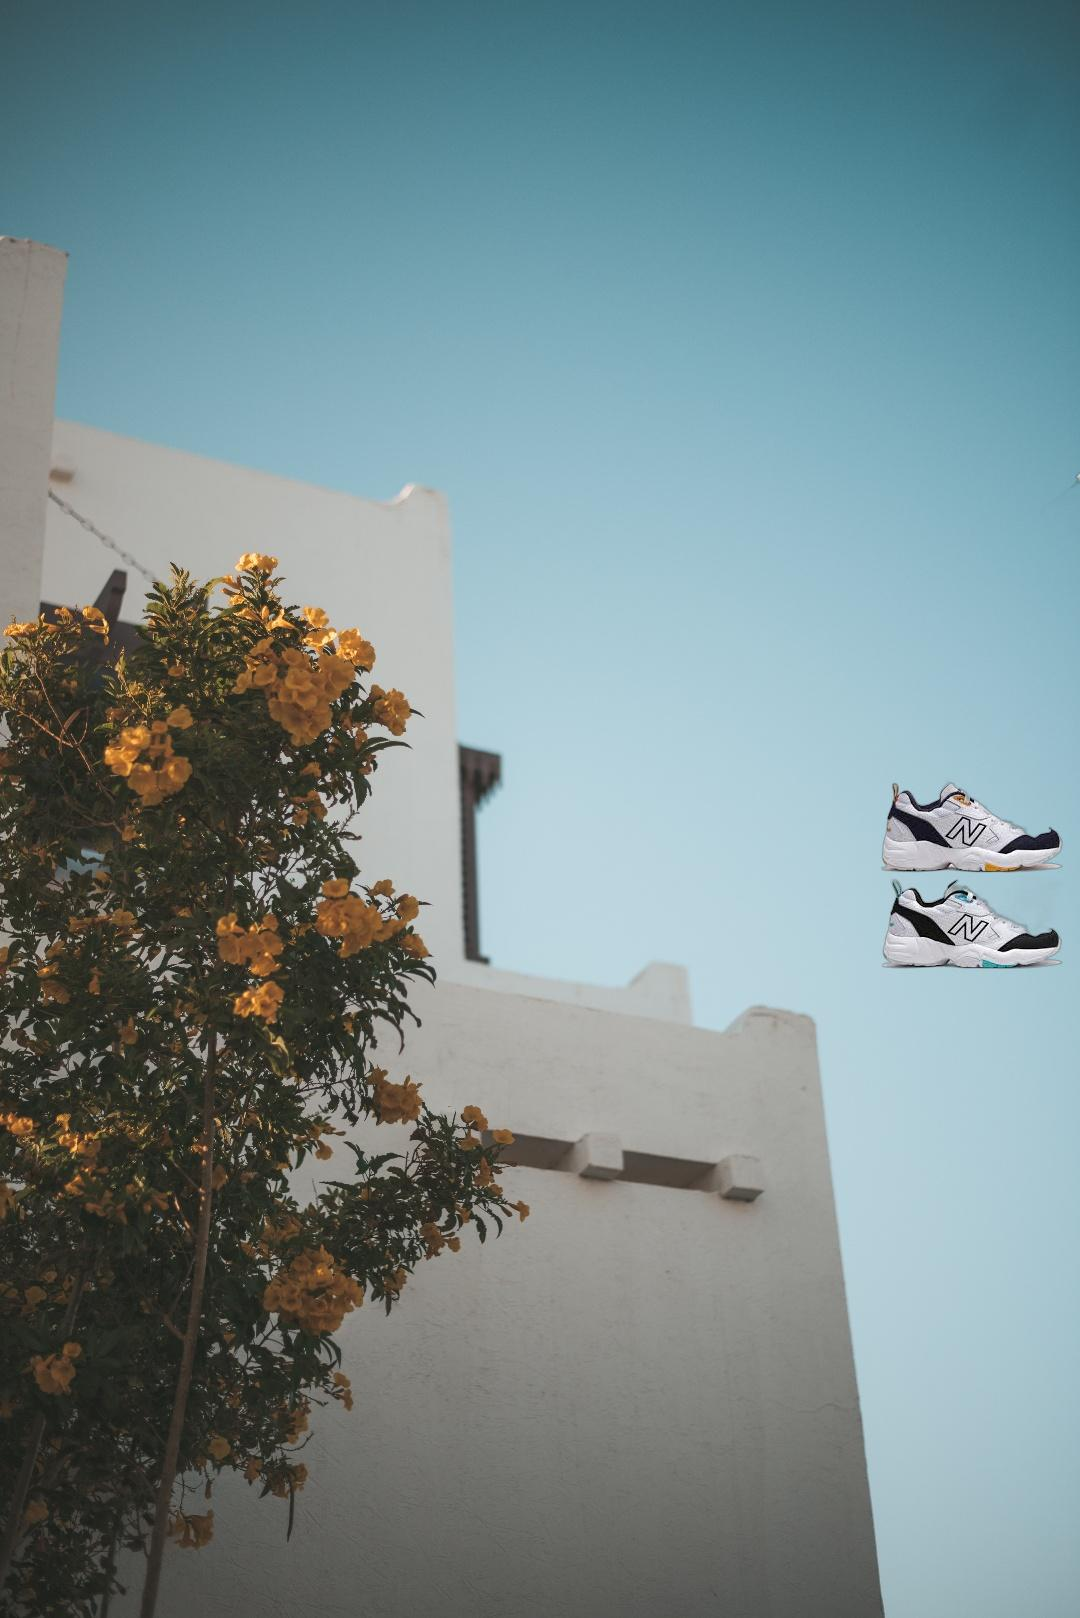shoes: (879, 778, 1072, 971)
trash: (1039, 377, 1080, 539)
